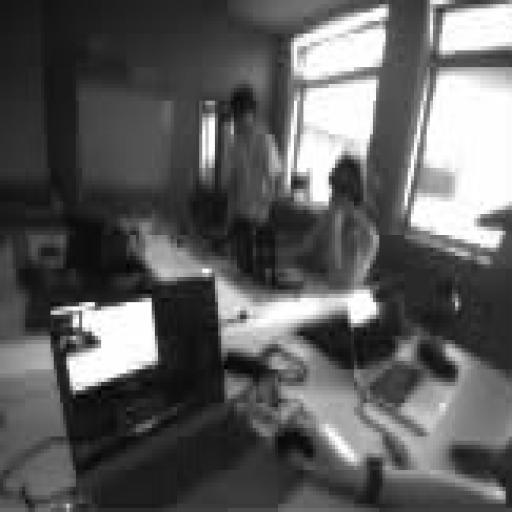human: (275, 412, 505, 507), (282, 156, 379, 289), (222, 84, 284, 272)
